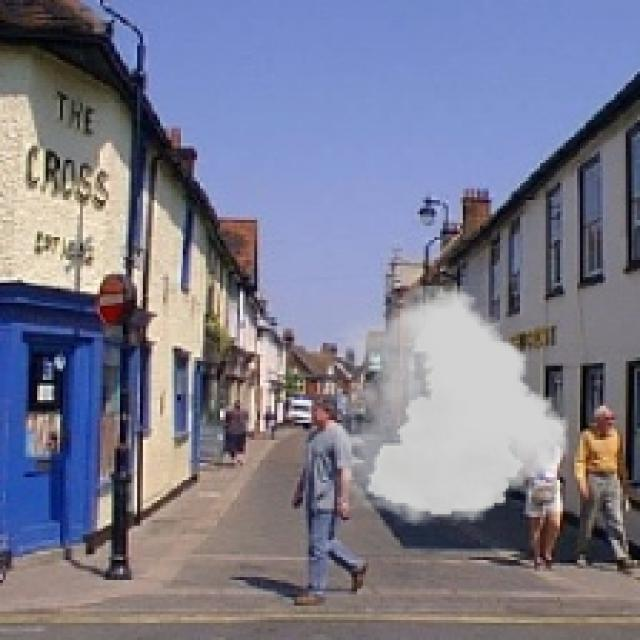smoke: (332, 286, 568, 526)
